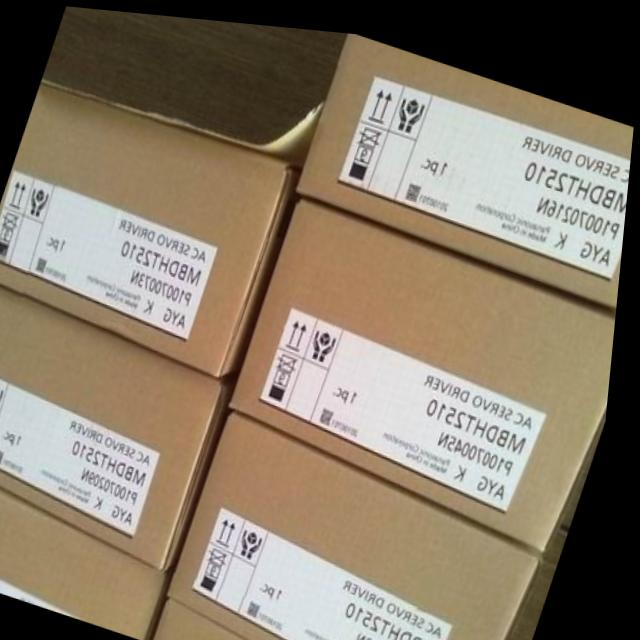box: (235, 185, 621, 542), (0, 78, 305, 373), (300, 26, 635, 294), (177, 405, 553, 640), (0, 281, 243, 567), (0, 480, 177, 639), (163, 595, 268, 640)
